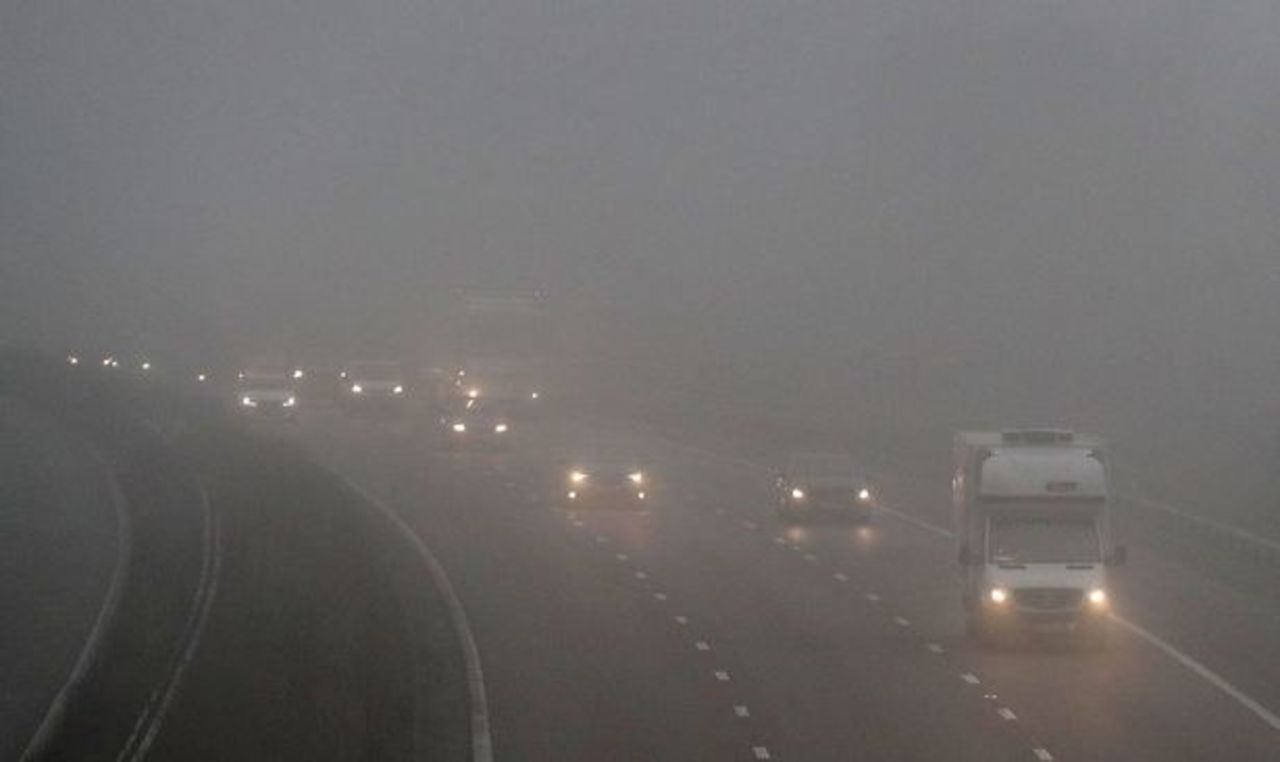bus: (947, 430, 1109, 644)
car: (773, 449, 876, 525), (554, 434, 651, 508), (336, 356, 411, 414), (436, 394, 512, 447), (233, 374, 299, 421), (289, 342, 351, 388)
truck: (399, 277, 550, 410)
